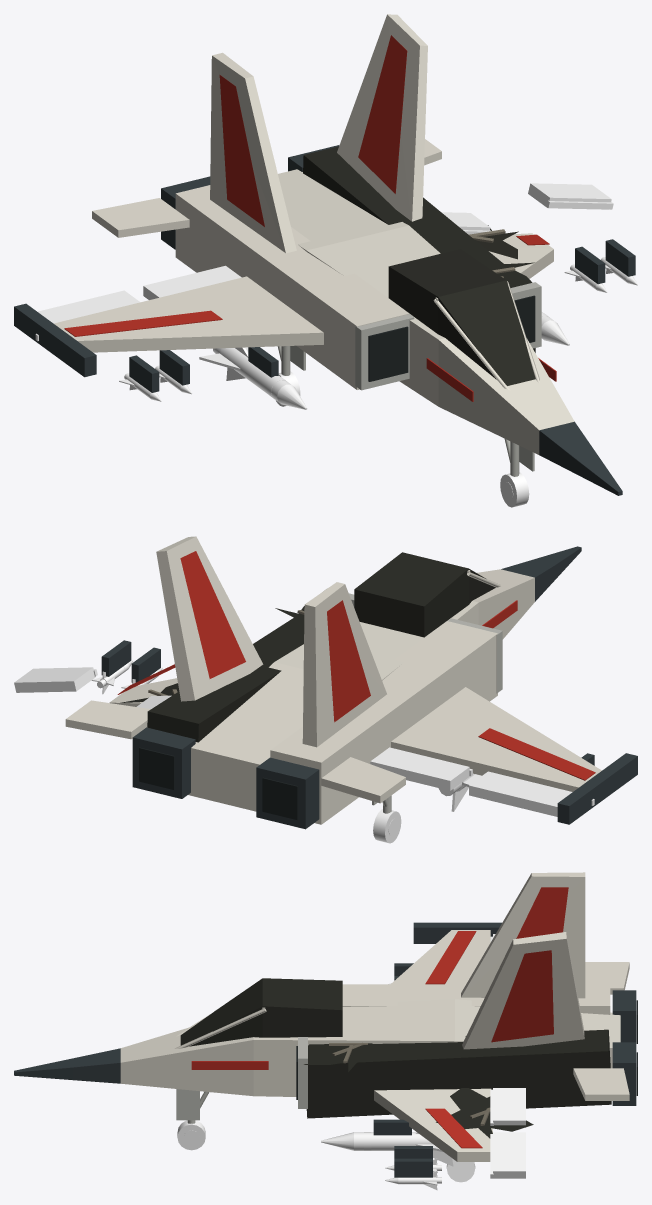
3 views of the same model, one above another, from view 1: azimuth 30°, elevation 25°; view 2: azimuth 150°, elevation 25°; view 3: azimuth 270°, elevation 25° (orthographic). The views are drawn at different scales.
Visible parts, largest first — view 1: jet-b-damaged-fleet-armor, jet-b-damaged-fleet-damage-charred, jet-b-damaged-fleet-red, jet-b-damaged-fleet-machine, jet-b-damaged-fleet-rubber, jet-b-damaged-fleet-edge, elevator-left-fleet-armor, store-left-large-painted, aileron-right-painted, flap-left-painted, aileron-left-painted, gear-wheel-nose-0-0-painted; view 2: jet-b-damaged-fleet-armor, jet-b-damaged-fleet-damage-charred, jet-b-damaged-fleet-machine, jet-b-damaged-fleet-red, aileron-left-painted, jet-b-damaged-fleet-rubber, flap-left-painted, elevator-left-fleet-armor, elevator-right-fleet-armor, aileron-right-painted, gear-wheel-left-0-0-painted, jet-b-damaged-fleet-edge (+1 smaller); view 3: jet-b-damaged-fleet-armor, jet-b-damaged-fleet-damage-charred, jet-b-damaged-fleet-red, jet-b-damaged-fleet-machine, store-right-large-painted, aileron-right-painted, elevator-right-fleet-armor, flap-right-painted, elevator-left-fleet-armor, landing-gear-nose-fleet-edge, jet-b-damaged-fleet-edge, gear-wheel-nose-0-0-painted (+2 smaller).
Boxes of the visible parts, left/top/right/bottom form: jet-b-damaged-fleet-armor: left=54, top=14, right=574, bottom=454; jet-b-damaged-fleet-damage-charred: left=303, top=146, right=535, bottom=385; jet-b-damaged-fleet-red: left=64, top=35, right=556, bottom=401; jet-b-damaged-fleet-machine: left=14, top=145, right=635, bottom=495; jet-b-damaged-fleet-rubber: left=368, top=295, right=535, bottom=381; jet-b-damaged-fleet-edge: left=355, top=282, right=541, bottom=390; elevator-left-fleet-armor: left=92, top=198, right=189, bottom=237; store-left-large-painted: left=199, top=347, right=307, bottom=409; aileron-right-painted: left=528, top=183, right=613, bottom=209; flap-left-painted: left=143, top=265, right=241, bottom=299; aileron-left-painted: left=35, top=290, right=139, bottom=341; gear-wheel-nose-0-0-painted: left=500, top=472, right=529, bottom=507; jet-b-damaged-fleet-armor: left=109, top=536, right=601, bottom=824; jet-b-damaged-fleet-damage-charred: left=120, top=552, right=495, bottom=742; jet-b-damaged-fleet-machine: left=101, top=546, right=637, bottom=829; jet-b-damaged-fleet-red: left=117, top=551, right=595, bottom=780; aileron-left-painted: left=469, top=771, right=594, bottom=816; jet-b-damaged-fleet-rubber: left=139, top=747, right=298, bottom=820; flap-left-painted: left=370, top=747, right=472, bottom=790; elevator-left-fleet-armor: left=321, top=757, right=405, bottom=803; elevator-right-fleet-armor: left=65, top=700, right=150, bottom=739; aileron-right-painted: left=14, top=667, right=97, bottom=692; gear-wheel-left-0-0-painted: left=373, top=809, right=401, bottom=843; jet-b-damaged-fleet-edge: left=323, top=588, right=502, bottom=693; jet-b-damaged-fleet-armor: left=120, top=872, right=620, bottom=1161; jet-b-damaged-fleet-damage-charred: left=180, top=978, right=611, bottom=1138; jet-b-damaged-fleet-red: left=191, top=887, right=568, bottom=1148; jet-b-damaged-fleet-machine: left=14, top=922, right=636, bottom=1177; store-right-large-painted: left=321, top=1132, right=453, bottom=1166; aileron-right-painted: left=490, top=1132, right=525, bottom=1178; elevator-right-fleet-armor: left=573, top=1068, right=629, bottom=1100; flap-right-painted: left=490, top=1088, right=525, bottom=1125; elevator-left-fleet-armor: left=585, top=962, right=629, bottom=994; landing-gear-nose-fleet-edge: left=176, top=1089, right=209, bottom=1123; jet-b-damaged-fleet-edge: left=298, top=1037, right=307, bottom=1108; gear-wheel-nose-0-0-painted: left=177, top=1120, right=205, bottom=1150.
Bounding box in the file's own units: 48.99 × 24.7 × 54.74.
